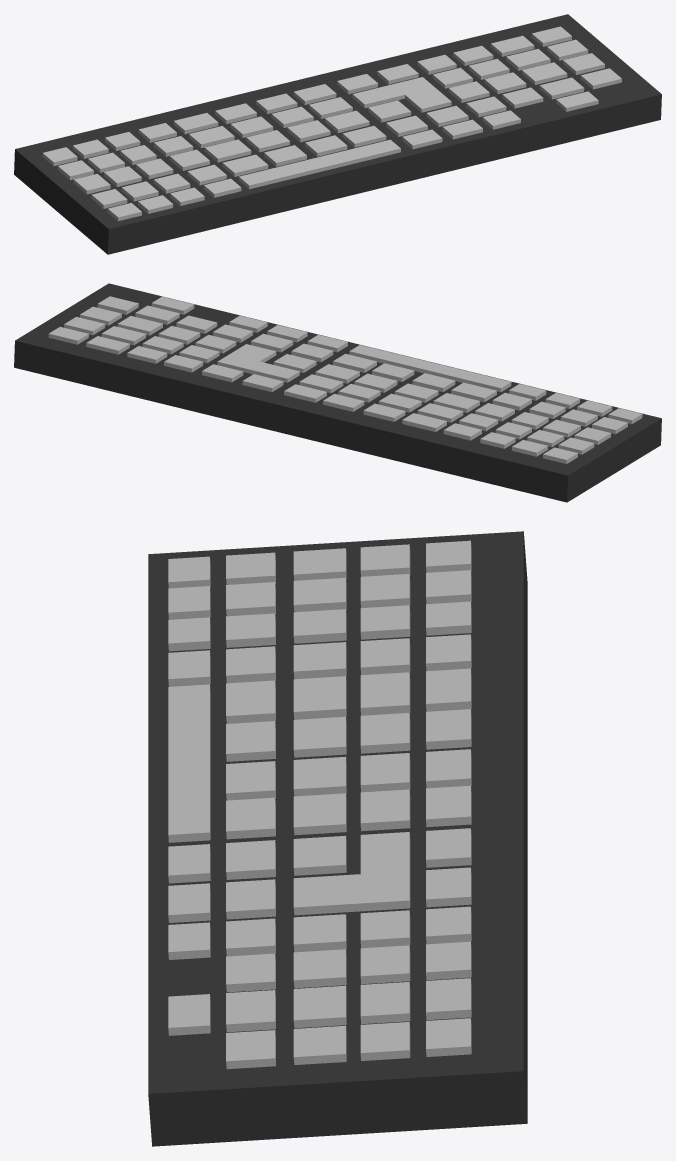
File: Teclado_prefab.fbx
3 views of the same model, one above another, from view 1: azimuth 30°, elevation 25°; view 2: azimuth 150°, elevation 25°; view 3: azimuth 270°, elevation 25° (orthographic). The views are drawn at different scales.
Parts seen in each view (by area): view 1: Cube.002; view 2: Cube.002; view 3: Cube.002.
Part boxes in pixels (<box>): Cube.002: <box>14,14,661,254</box>; Cube.002: <box>14,283,661,502</box>; Cube.002: <box>148,531,527,1146</box>.
Bounding box in the file's own units: 207 × 14.54 × 61.43.
Materials: 1 (1 with a texture image).
